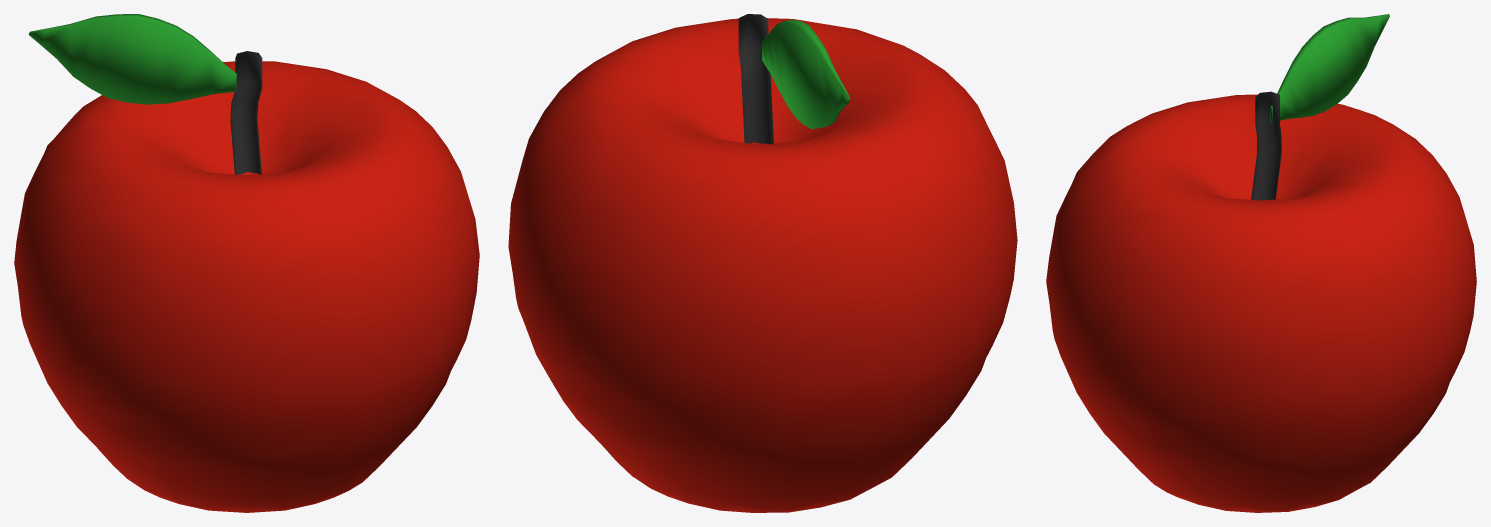
Rendered from Apple.fbx.
3 views of the same model, side by side, from view 1: azimuth 30°, elevation 25°; view 2: azimuth 150°, elevation 25°; view 3: azimuth 270°, elevation 25° (orthographic). The views are drawn at different scales.
Parts seen in each view (by area): view 1: Apple; view 2: Apple; view 3: Apple.
Boxes of the visible parts, x1,y1,x2,y2 form: Apple: (14, 14, 479, 512); Apple: (508, 14, 1017, 512); Apple: (1046, 14, 1476, 512).
Size of the model in its own units: 1.11 by 1.11 by 1.16.
